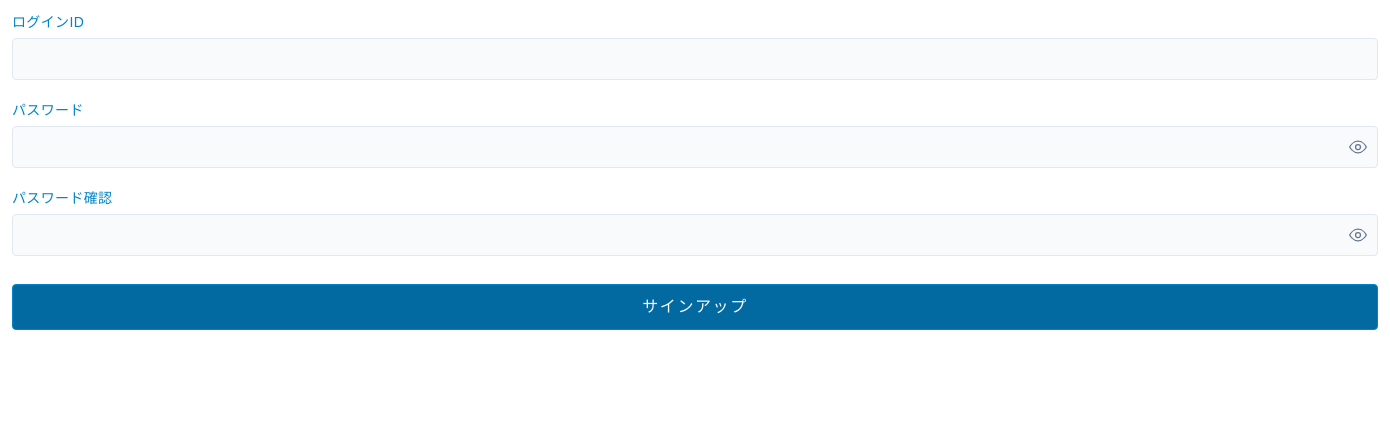
SignupForm › 未入力で送信すると必須エラーを表示し、Server Actionを呼ばない
Click the button "サインアップ".
click(695, 307)  # box [12,284,1378,330]
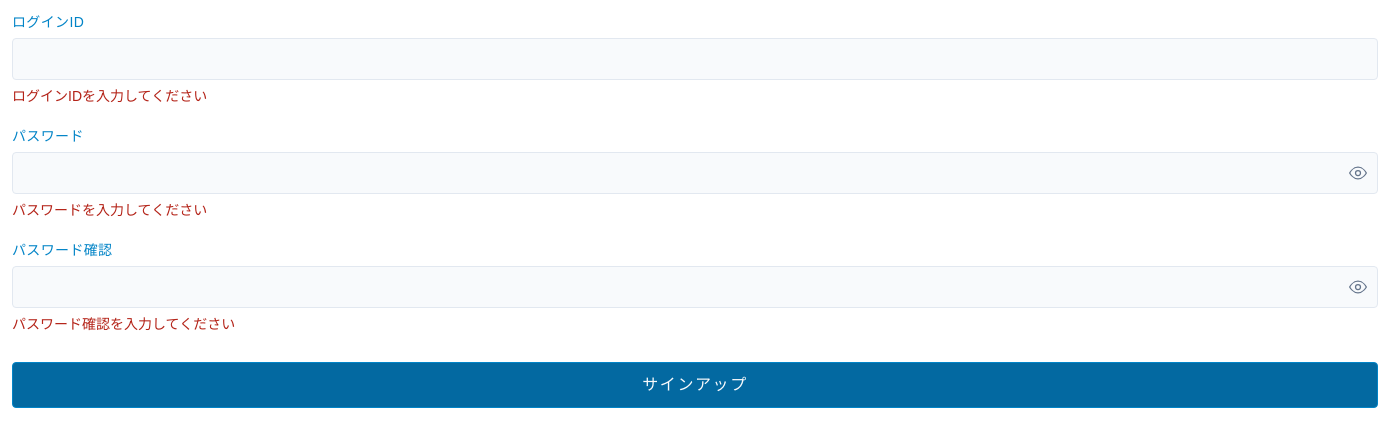
Check: the text "ログインIDを入力してください" is shown, box [12,88,207,104]
Check: the text "パスワードを入力してください" is shown, box [12,202,207,218]
Check: the text "パスワード確認を入力してください" is shown, box [12,316,235,332]
